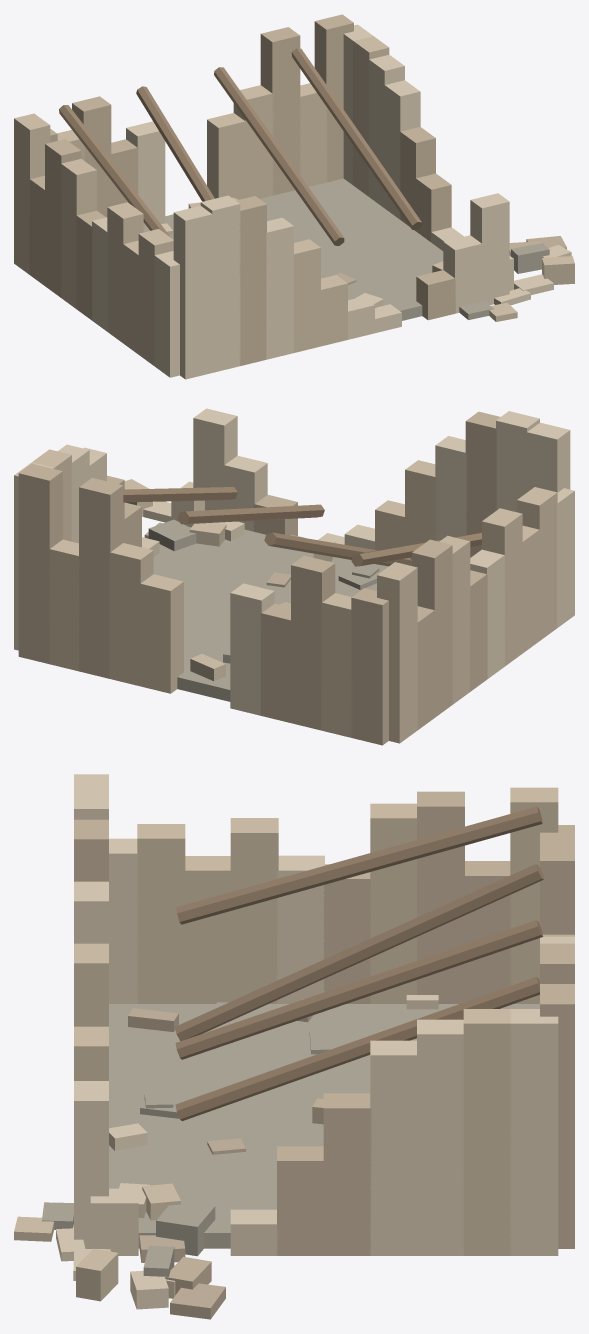
File: collapsed_house.glb
3 renders of one model, top to bottom at view 1: azimuth 30°, elevation 25°; view 2: azimuth 150°, elevation 25°; view 3: azimuth 270°, elevation 25°, orthographic. The views are drawn at different scales.
Visible parts, largest first — view 1: stone_0, adobe3_11, adobe3_12, adobe2_8, adobe2_13, adobe3_14, adobe_22, adobe2_10, adobe3_21, adobe_25, adobe_6, adobe3_31 (+31 smaller); view 2: stone_0, adobe2_10, adobe2_8, adobe2_3, adobe2_1, adobe_22, adobe_6, adobe_7, adobe_2, adobe2_24, adobe3_5, adobe_9 (+34 smaller); view 3: stone_0, adobe3_32, adobe_33, adobe3_34, adobe3_35, adobe_30, adobe2_36, adobe_28, adobe2_24, wood_41, wood_42, wood_40 (+33 smaller).
Boxes of the visible parts, x1=… form: stone_0: x1=143, y1=178, x2=443, y2=320; adobe3_11: x1=173, y1=205, x2=213, y2=379; adobe3_12: x1=200, y1=195, x2=240, y2=372; adobe2_8: x1=260, y1=27, x2=300, y2=195; adobe2_13: x1=236, y1=196, x2=266, y2=365; adobe3_14: x1=266, y1=217, x2=293, y2=359; adobe_22: x1=14, y1=113, x2=50, y2=274; adobe2_10: x1=314, y1=14, x2=353, y2=182; adobe3_21: x1=470, y1=193, x2=509, y2=304; adobe_25: x1=60, y1=159, x2=96, y2=308; adobe_6: x1=207, y1=113, x2=246, y2=199; adobe3_31: x1=154, y1=251, x2=179, y2=377; stone_0: x1=153, y1=527, x2=388, y2=701; adobe2_10: x1=18, y1=463, x2=62, y2=664; adobe2_8: x1=79, y1=477, x2=123, y2=678; adobe2_3: x1=291, y1=555, x2=335, y2=730; adobe2_1: x1=351, y1=588, x2=388, y2=745; adobe_22: x1=377, y1=562, x2=417, y2=743; adobe_6: x1=139, y1=574, x2=183, y2=693; adobe_7: x1=109, y1=543, x2=153, y2=685; adobe_2: x1=321, y1=593, x2=352, y2=737; adobe2_24: x1=412, y1=539, x2=452, y2=717; adobe3_5: x1=230, y1=583, x2=274, y2=715; adobe_9: x1=49, y1=539, x2=79, y2=671; stone_0: x1=109, y1=1004, x2=539, y2=1248; adobe3_32: x1=510, y1=1009, x2=558, y2=1255; adobe_33: x1=463, y1=1009, x2=511, y2=1255; adobe3_34: x1=417, y1=1019, x2=464, y2=1255; adobe3_35: x1=370, y1=1040, x2=418, y2=1255; adobe_30: x1=137, y1=824, x2=185, y2=1003; adobe2_36: x1=323, y1=1093, x2=371, y2=1255; adobe_28: x1=230, y1=818, x2=278, y2=1003; adobe2_24: x1=417, y1=791, x2=464, y2=1003; wood_41: x1=174, y1=864, x2=543, y2=1041; wood_42: x1=175, y1=920, x2=543, y2=1059; wood_40: x1=176, y1=806, x2=542, y2=924.
Size of the model in its own units: 6.39 by 2.33 by 4.81.
